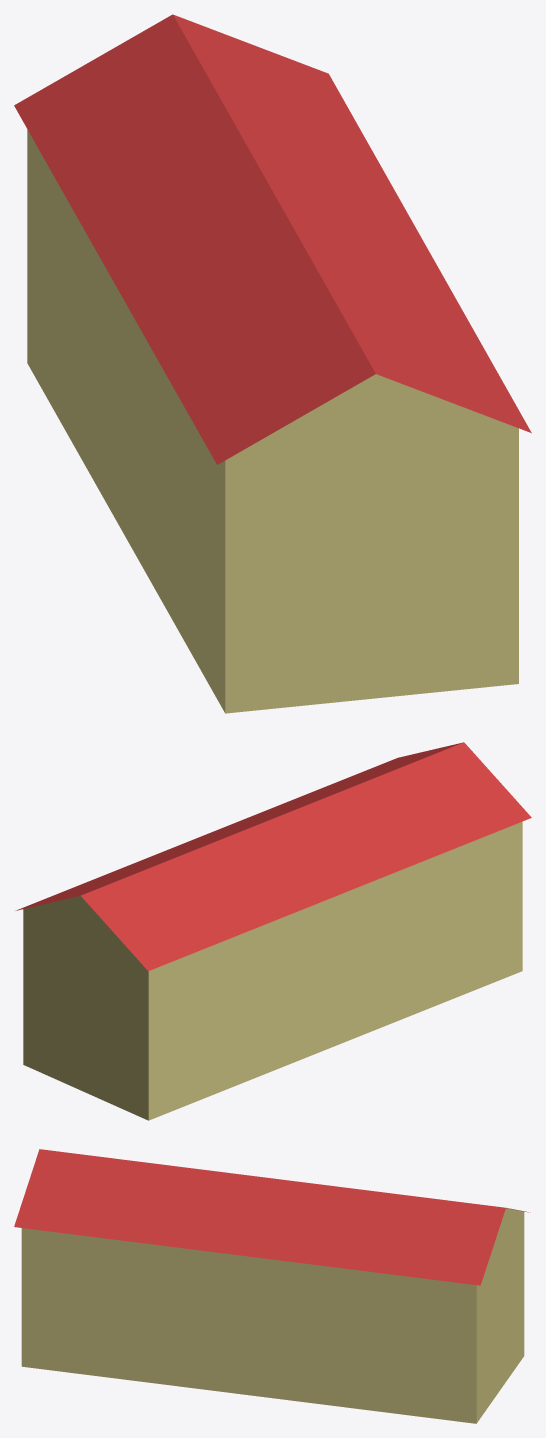
3 views of the same model, one above another, from view 1: azimuth 30°, elevation 25°; view 2: azimuth 150°, elevation 25°; view 3: azimuth 270°, elevation 25° (orthographic). The views are drawn at different scales.
Visible parts, largest first — view 1: group_5, group_3, group_4; view 2: group_5, group_3, group_4; view 3: group_5, group_3, group_4.
Part boxes in pixels (x1=…): group_5: x1=27, y1=129, x2=518, y2=713; group_3: x1=15, y1=14, x2=518, y2=464; group_4: x1=14, y1=14, x2=531, y2=433; group_5: x1=23, y1=821, x2=522, y2=1120; group_3: x1=25, y1=742, x2=531, y2=969; group_4: x1=15, y1=742, x2=483, y2=970; group_5: x1=21, y1=1208, x2=524, y2=1423; group_3: x1=22, y1=1149, x2=530, y2=1279; group_4: x1=14, y1=1150, x2=508, y2=1285.
Size of the model in its own units: 25.58 by 42.53 by 16.59.
